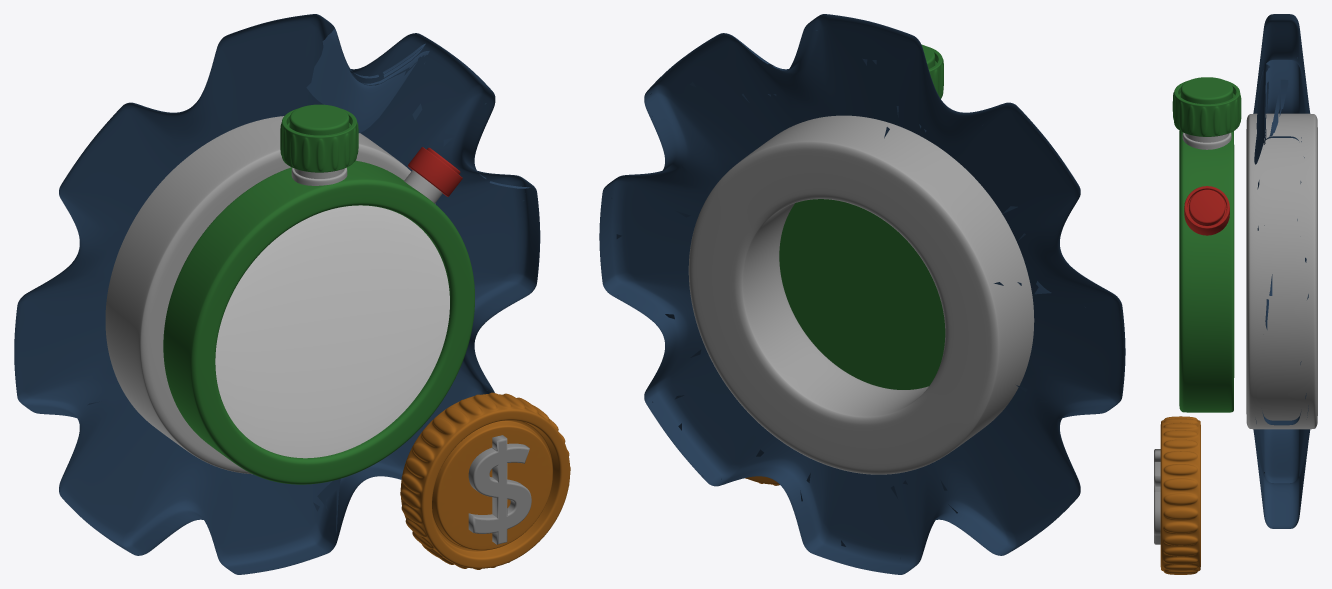
File: management.glb
3 views of the same model, side by side, from view 1: azimuth 30°, elevation 25°; view 2: azimuth 150°, elevation 25°; view 3: azimuth 270°, elevation 25° (orthographic). The views are drawn at different scales.
Visible parts, largest first — view 1: Circle.006, Sphere.015, Cylinder.083, Circle.007, Cylinder.008, Cylinder.005, Text.002, Cylinder.007; view 2: Circle.006, Circle.007, Cylinder.083, Cylinder.005; view 3: Circle.007, Cylinder.083, Circle.006, Cylinder.008, Cylinder.005, Cylinder.007, Text.002, Cylinder.002, Cylinder.003.
Part boxes in pixels (x1,y1,x2,y2): Circle.006: (14, 14, 540, 574); Sphere.015: (215, 205, 449, 458); Cylinder.083: (163, 160, 474, 484); Circle.007: (105, 116, 435, 474); Cylinder.008: (400, 392, 570, 569); Cylinder.005: (280, 104, 358, 172); Text.002: (468, 435, 531, 544); Cylinder.007: (408, 147, 462, 196); Circle.006: (599, 14, 1125, 574); Circle.007: (688, 115, 1034, 474); Cylinder.083: (779, 199, 945, 389); Cylinder.005: (921, 44, 943, 98); Circle.007: (1246, 113, 1317, 429); Cylinder.083: (1179, 131, 1234, 412); Circle.006: (1253, 14, 1310, 528); Cylinder.008: (1160, 416, 1200, 574); Cylinder.005: (1172, 77, 1241, 136); Cylinder.007: (1184, 186, 1229, 235); Text.002: (1154, 449, 1160, 544); Cylinder.002: (1182, 132, 1231, 149); Cylinder.003: (1185, 133, 1229, 142).
Size of the model in its own units: 1.9 by 1.9 by 0.597.
